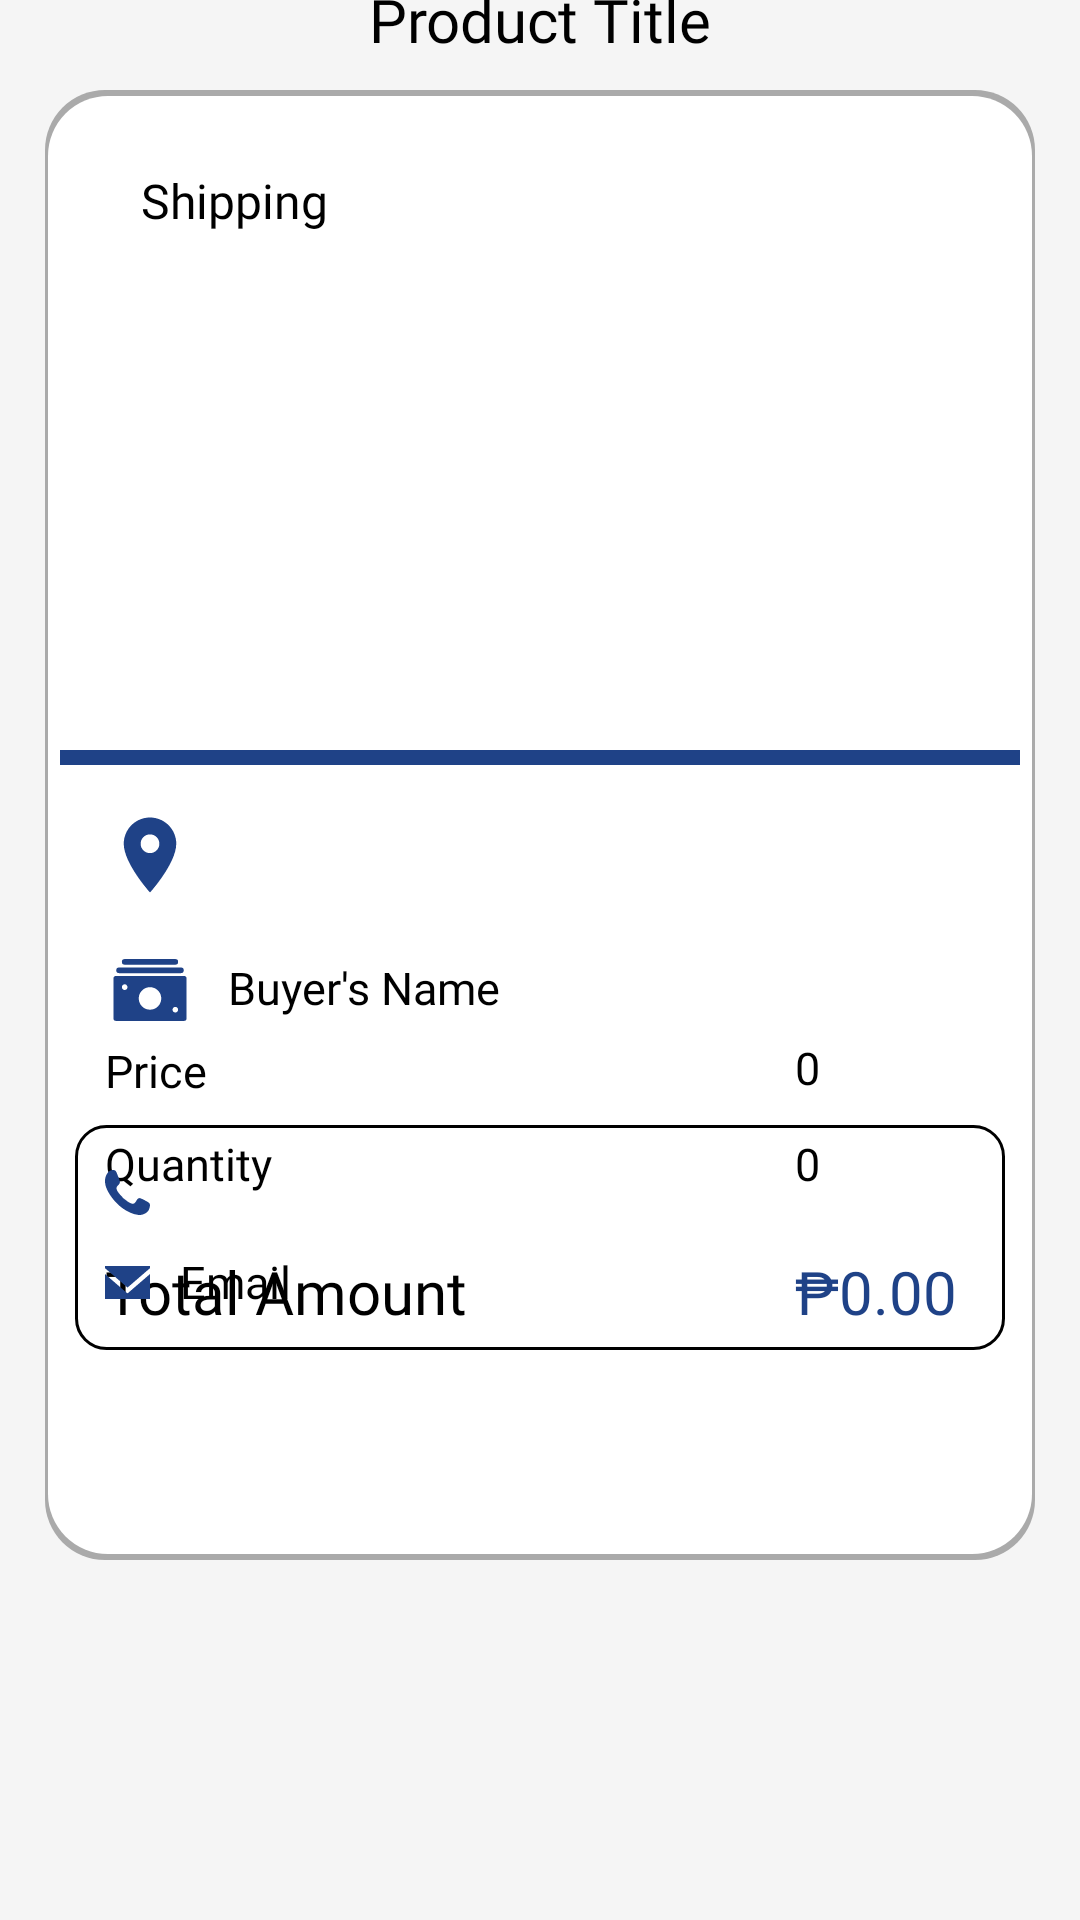

Icon click points for this 1080x1920 phone screenshot, format (x=x, y=y):
location: (x=150, y=854)
money: (x=150, y=990)
